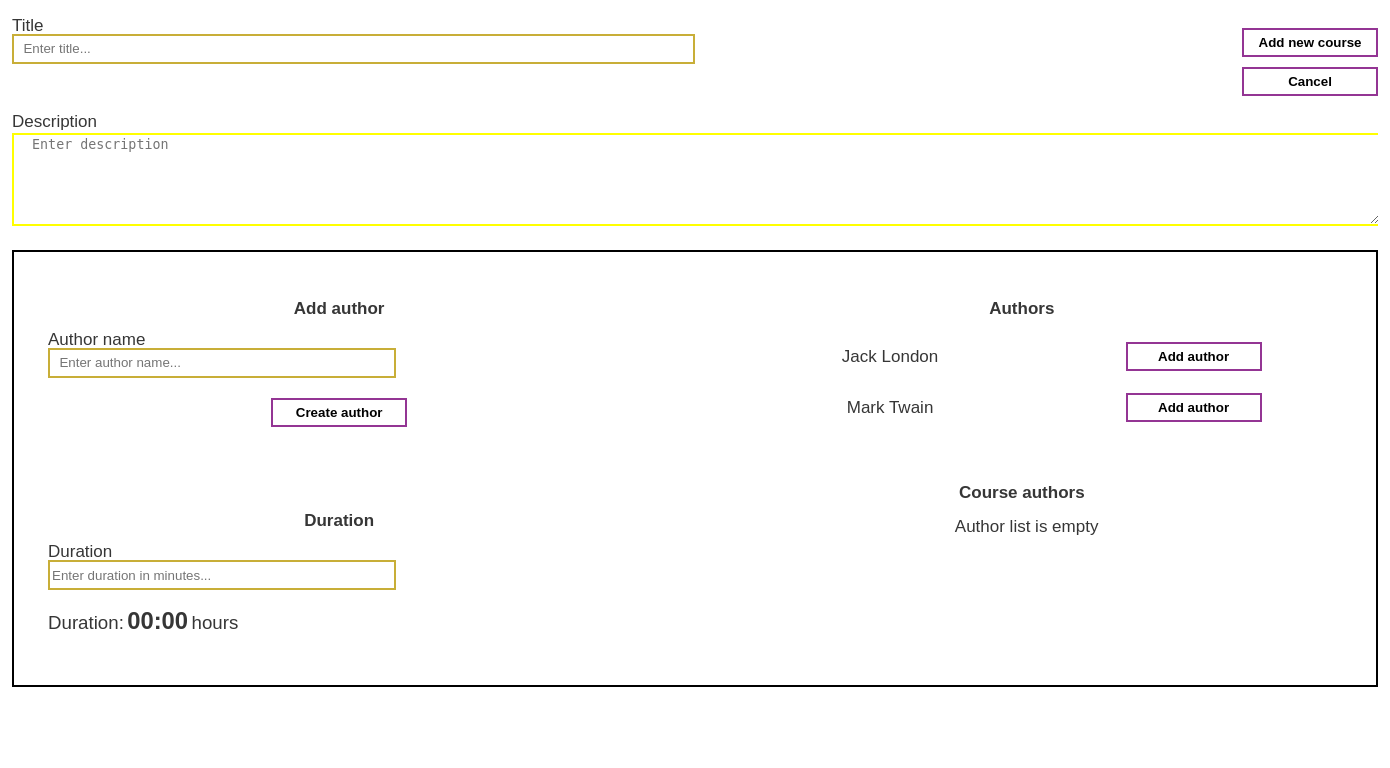
Test: CourseForm › 'Add author' button click should add an author to course authors list
Click the button "Add author" in the row of "Jack London": (1194, 357) 1126,342 -> 1262,371
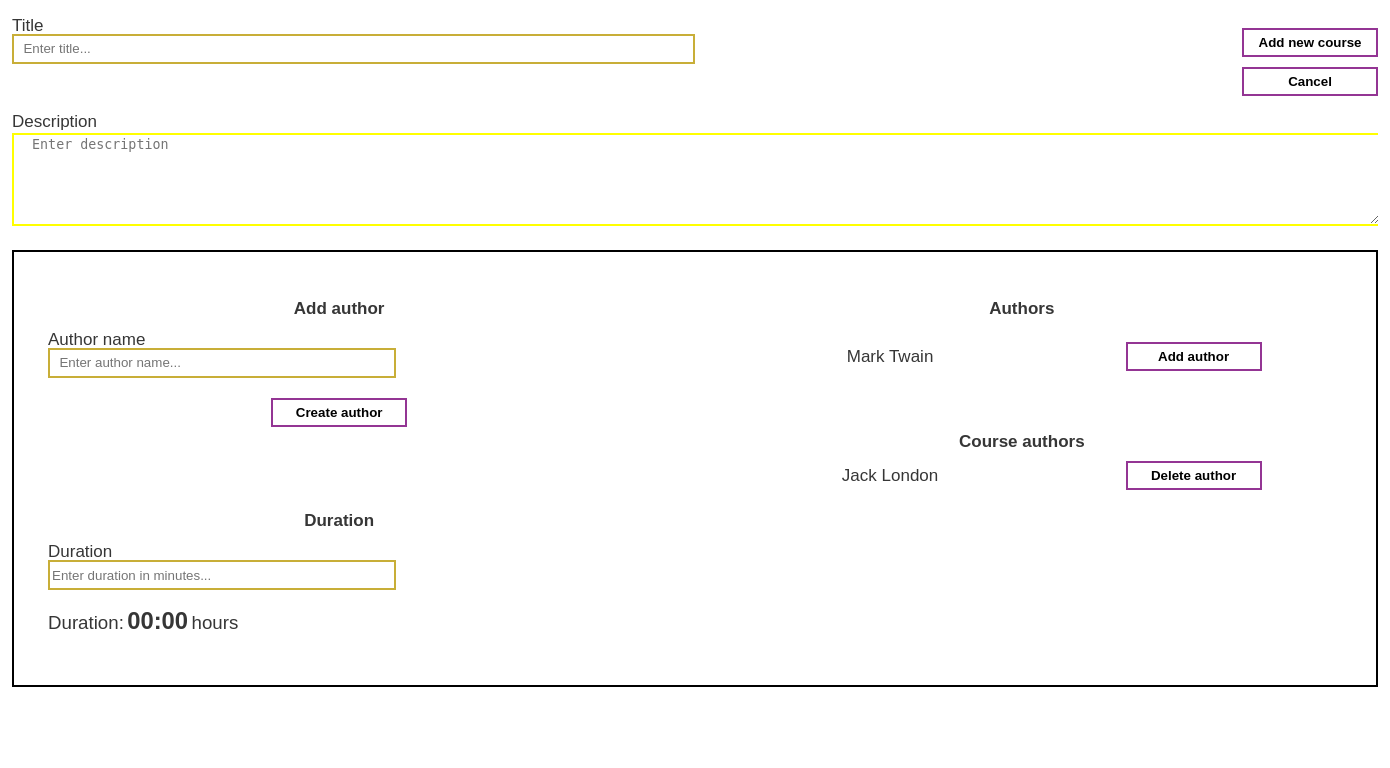
Now the number of list items with test id "test-author-tile-Delete author" is 1, box 842,461 -> 1262,490
